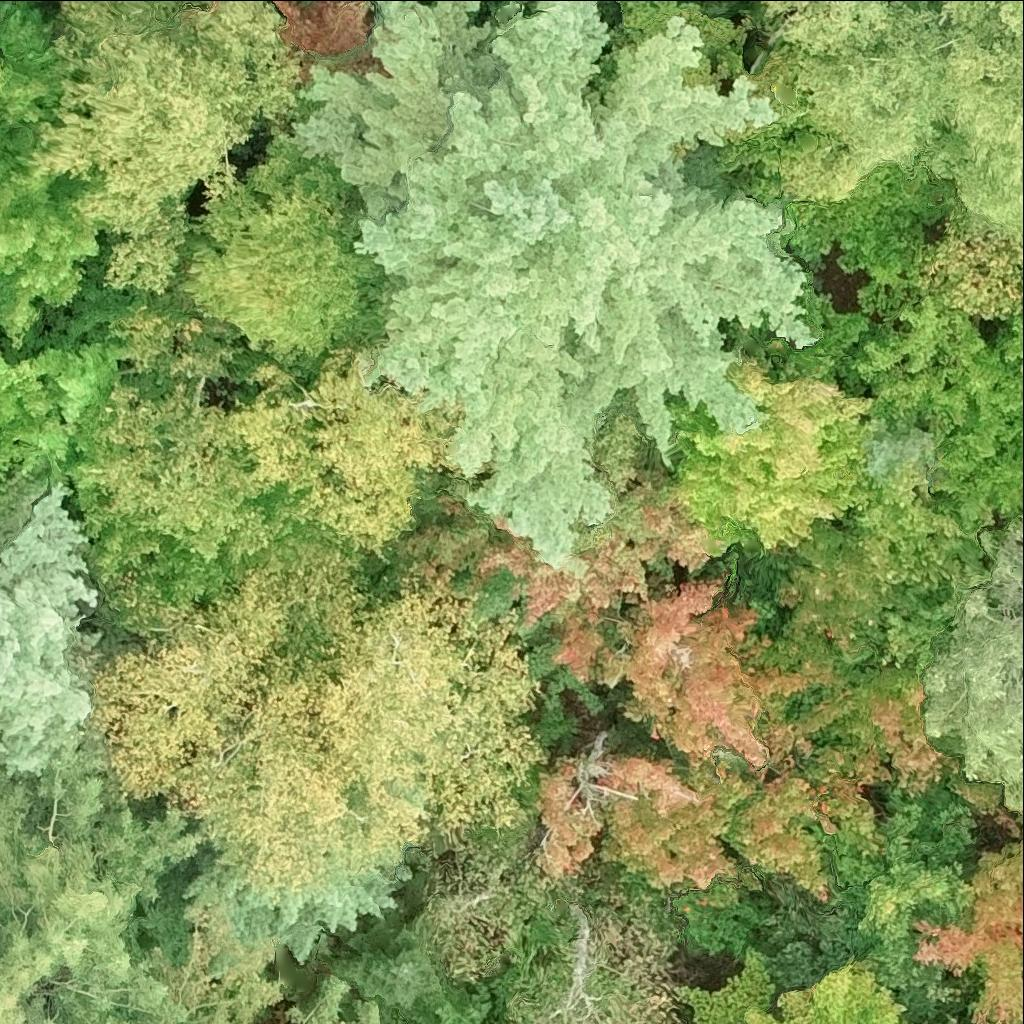crown: (304, 0, 808, 557), (84, 544, 429, 891), (530, 578, 838, 958), (28, 0, 305, 297), (0, 178, 323, 418), (66, 386, 356, 633), (305, 574, 542, 847), (0, 720, 202, 1023), (180, 132, 405, 371), (428, 841, 683, 1023), (400, 484, 714, 625), (230, 364, 463, 552), (0, 5, 121, 347), (678, 363, 885, 557), (848, 298, 1023, 521), (787, 0, 957, 201), (834, 784, 979, 1001), (919, 523, 1023, 813), (0, 484, 102, 775), (0, 342, 124, 533), (927, 0, 1023, 241), (809, 664, 961, 798), (922, 830, 1023, 1023), (675, 948, 909, 1023), (848, 462, 962, 588), (859, 413, 936, 486), (292, 980, 377, 1023), (759, 0, 819, 26), (0, 524, 29, 544), (177, 1013, 230, 1023), (0, 43, 4, 93), (1021, 291, 1023, 301)
